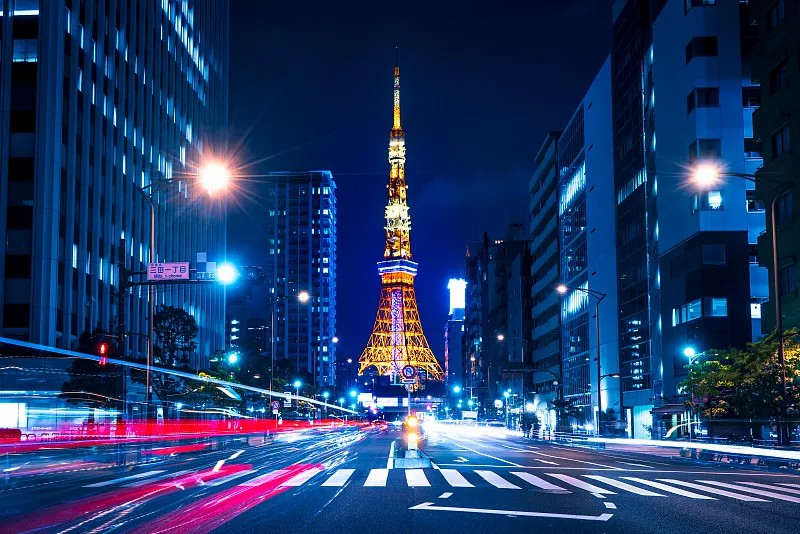Tokyo: (358, 42, 444, 375)
